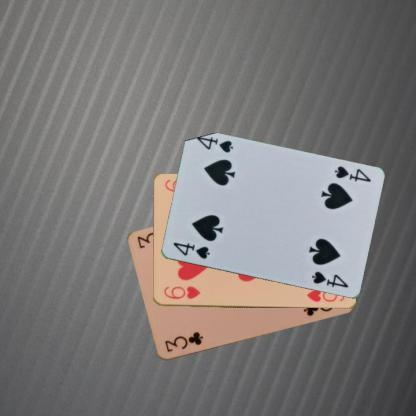3c: (162, 329, 204, 354)
4s: (170, 240, 211, 260), (332, 164, 372, 184)
6h: (160, 284, 202, 300)
